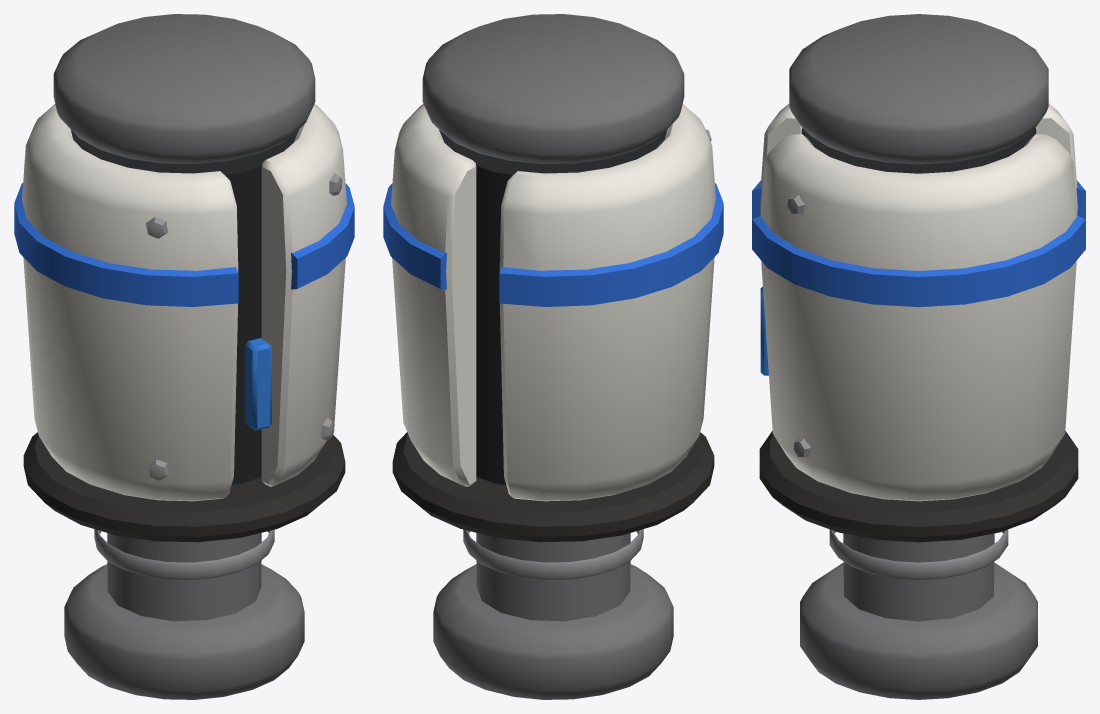
Rendered from Kit_Limb_ProPanel_L.glb.
3 renders of one model, left to right at view 1: azimuth 30°, elevation 25°; view 2: azimuth 150°, elevation 25°; view 3: azimuth 270°, elevation 25°, orthographic.
Visible parts, largest first — view 1: Kit_Limb_ProPanel_L; view 2: Kit_Limb_ProPanel_L; view 3: Kit_Limb_ProPanel_L.
Part boxes in pixels (x1,y1,x2,y2): Kit_Limb_ProPanel_L: (14,14,354,699); Kit_Limb_ProPanel_L: (383,14,723,699); Kit_Limb_ProPanel_L: (752,14,1085,699).
Size of the model in its own units: 0.1846 by 0.3568 by 0.1809.
